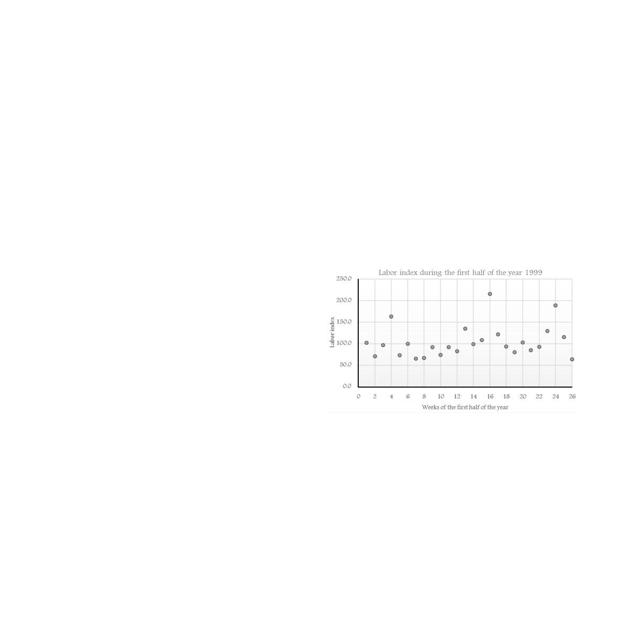Graph: (327, 267, 577, 413)
